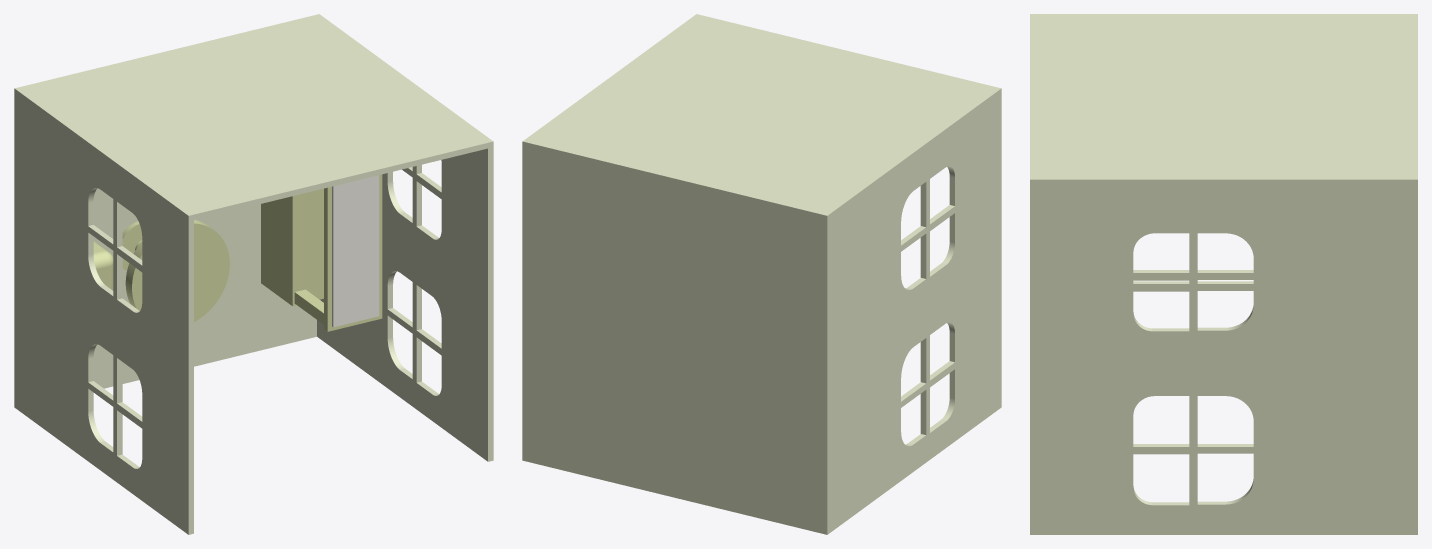
The model's file is Assembly.gltf.
The picture shows the model from 3 angles, left to right: view 1: azimuth 30°, elevation 25°; view 2: azimuth 150°, elevation 25°; view 3: azimuth 270°, elevation 25°; orthographic projection. The views are drawn at different scales.
Visible parts, largest first — view 1: Part 1 (×7); view 2: Part 1 (×3); view 3: Part 1 (×4).
Boxes of the visible parts, x1,y1,x2,y2 form: Part 1 (×7): (14,14,493,534); Part 1 (×3): (522,14,1001,534); Part 1 (×4): (1030,14,1417,534).
Bounding box in the file's own units: 0.14 × 0.14 × 0.1385.
